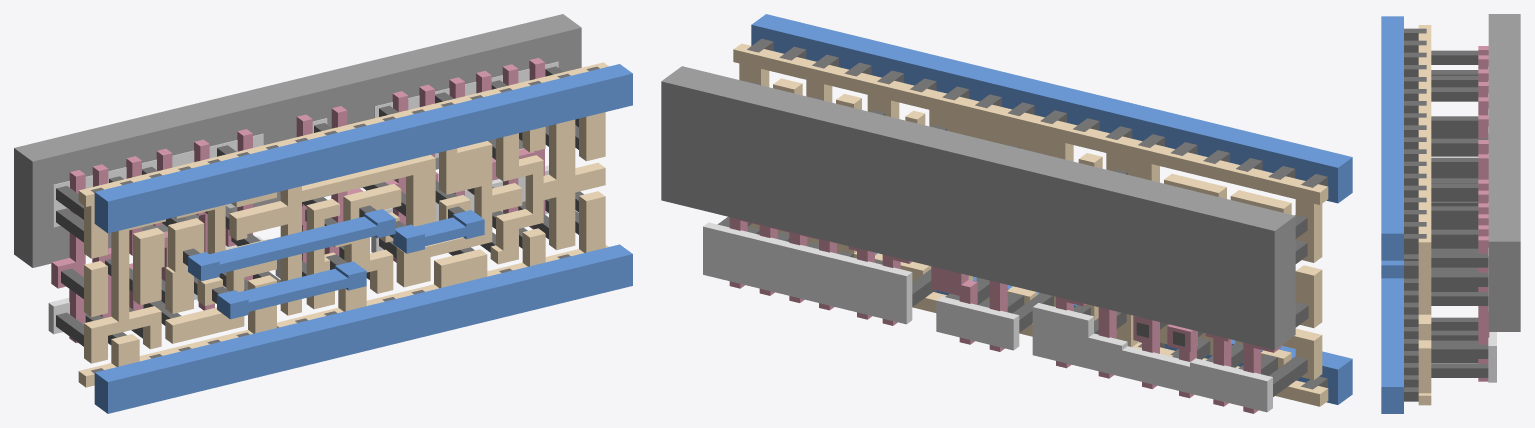
File: sky130_fd_sc_hd__sdlclkp_4.gds.gltf
The picture shows the model from 3 angles, left to right: view 1: azimuth 30°, elevation 25°; view 2: azimuth 150°, elevation 25°; view 3: azimuth 270°, elevation 25°; orthographic projection. The views are drawn at different scales.
Visible parts, largest first — view 1: sky130_fd_sc_hd__sdlclkp_4_met1, sky130_fd_sc_hd__sdlclkp_4_li1, sky130_fd_sc_hd__sdlclkp_4_nwell, sky130_fd_sc_hd__sdlclkp_4_poly, sky130_fd_sc_hd__sdlclkp_4_licon, sky130_fd_sc_hd__sdlclkp_4_diff, sky130_fd_sc_hd__sdlclkp_4_mcon; view 2: sky130_fd_sc_hd__sdlclkp_4_nwell, sky130_fd_sc_hd__sdlclkp_4_li1, sky130_fd_sc_hd__sdlclkp_4_diff, sky130_fd_sc_hd__sdlclkp_4_met1, sky130_fd_sc_hd__sdlclkp_4_poly, sky130_fd_sc_hd__sdlclkp_4_licon, sky130_fd_sc_hd__sdlclkp_4_mcon; view 3: sky130_fd_sc_hd__sdlclkp_4_licon, sky130_fd_sc_hd__sdlclkp_4_nwell, sky130_fd_sc_hd__sdlclkp_4_met1, sky130_fd_sc_hd__sdlclkp_4_mcon, sky130_fd_sc_hd__sdlclkp_4_li1, sky130_fd_sc_hd__sdlclkp_4_poly, sky130_fd_sc_hd__sdlclkp_4_diff.
Boxes of the visible parts, x1=… form: sky130_fd_sc_hd__sdlclkp_4_met1: x1=94, y1=64, x2=632, y2=413; sky130_fd_sc_hd__sdlclkp_4_li1: x1=78, y1=62, x2=608, y2=387; sky130_fd_sc_hd__sdlclkp_4_nwell: x1=14, y1=14, x2=581, y2=267; sky130_fd_sc_hd__sdlclkp_4_poly: x1=51, y1=58, x2=544, y2=343; sky130_fd_sc_hd__sdlclkp_4_licon: x1=56, y1=66, x2=583, y2=346; sky130_fd_sc_hd__sdlclkp_4_diff: x1=48, y1=61, x2=558, y2=334; sky130_fd_sc_hd__sdlclkp_4_mcon: x1=90, y1=66, x2=599, y2=373; sky130_fd_sc_hd__sdlclkp_4_nwell: x1=661, y1=66, x2=1295, y2=349; sky130_fd_sc_hd__sdlclkp_4_li1: x1=733, y1=43, x2=1328, y2=406; sky130_fd_sc_hd__sdlclkp_4_diff: x1=703, y1=222, x2=1272, y2=412; sky130_fd_sc_hd__sdlclkp_4_met1: x1=751, y1=14, x2=1352, y2=404; sky130_fd_sc_hd__sdlclkp_4_poly: x1=729, y1=217, x2=1281, y2=413; sky130_fd_sc_hd__sdlclkp_4_licon: x1=717, y1=81, x2=1308, y2=396; sky130_fd_sc_hd__sdlclkp_4_mcon: x1=747, y1=38, x2=1327, y2=389; sky130_fd_sc_hd__sdlclkp_4_licon: x1=1431, y1=50, x2=1488, y2=377; sky130_fd_sc_hd__sdlclkp_4_nwell: x1=1488, y1=14, x2=1520, y2=331; sky130_fd_sc_hd__sdlclkp_4_met1: x1=1381, y1=16, x2=1403, y2=413; sky130_fd_sc_hd__sdlclkp_4_mcon: x1=1404, y1=28, x2=1426, y2=401; sky130_fd_sc_hd__sdlclkp_4_li1: x1=1418, y1=25, x2=1431, y2=405; sky130_fd_sc_hd__sdlclkp_4_poly: x1=1478, y1=46, x2=1489, y2=381; sky130_fd_sc_hd__sdlclkp_4_diff: x1=1488, y1=67, x2=1496, y2=382.
Size of the model in its own units: 8.66 by 3.2 by 2.24.
